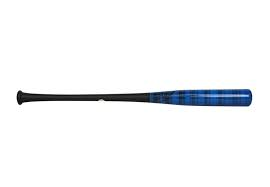bat: (15, 88, 253, 108)
